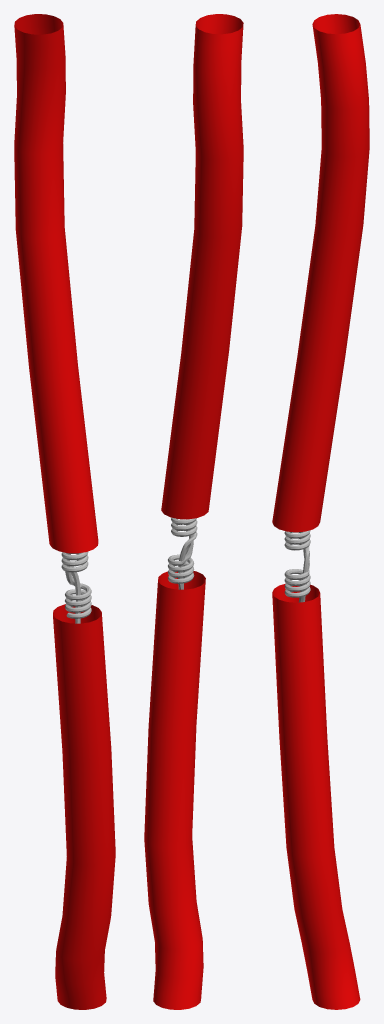
File: wire_soldered_3.gltf
3 renders of one model, left to right at view 1: azimuth 30°, elevation 25°; view 2: azimuth 210°, elevation 25°; view 3: azimuth 270°, elevation 25°, orthographic. The views are drawn at different scales.
Parts seen in each view (by area): view 1: wire_broken_3c, pHelix2, pHelix1; view 2: wire_broken_3c, pHelix2, pHelix1; view 3: wire_broken_3c, pHelix2, pHelix1.
Boxes of the visible parts, x1,y1,x2,y2 form: wire_broken_3c: (14, 14, 115, 1009); pHelix2: (65, 553, 91, 618); pHelix1: (61, 551, 88, 623); wire_broken_3c: (144, 14, 243, 1009); pHelix2: (168, 522, 194, 583); pHelix1: (171, 517, 197, 589); wire_broken_3c: (272, 14, 369, 1009); pHelix2: (284, 531, 310, 597); pHelix1: (284, 530, 310, 602).
Bounding box in the file's own units: 0.1432 × 1.56 × 0.1448.
